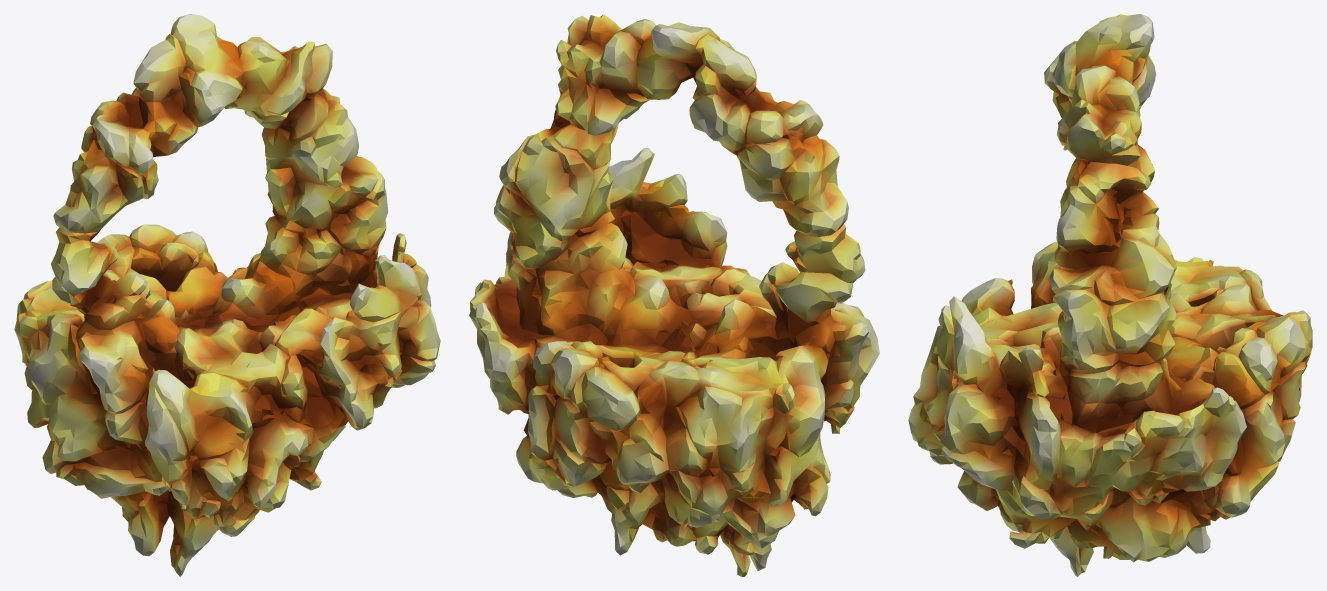
Rendered from Stylised_floating_02_mesh.fbx.
3 views of the same model, side by side, from view 1: azimuth 30°, elevation 25°; view 2: azimuth 150°, elevation 25°; view 3: azimuth 270°, elevation 25° (orthographic). The views are drawn at different scales.
Parts seen in each view (by area): view 1: attribdelete3; view 2: attribdelete3; view 3: attribdelete3.
Boxes of the visible parts, x1=… form: attribdelete3: x1=14, y1=14, x2=440, y2=576; attribdelete3: x1=469, y1=14, x2=879, y2=576; attribdelete3: x1=908, y1=14, x2=1312, y2=576.
Size of the model in its own units: 20.66 by 29.83 by 18.9.
